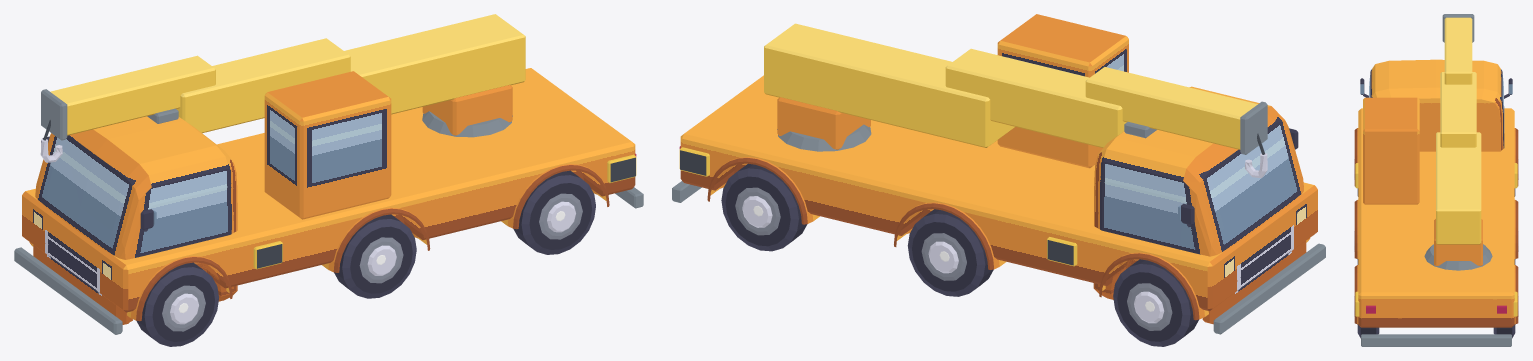
3 views of the same model, side by side, from view 1: azimuth 30°, elevation 25°; view 2: azimuth 150°, elevation 25°; view 3: azimuth 270°, elevation 25° (orthographic). The views are drawn at different scales.
Visible parts, largest first — view 1: Body_static, Wheel_ML_tire_hub, Wheel_RL_tire_hub, Wheel_FL_tire_hub; view 2: Body_static, Wheel_RR_tire_hub, Wheel_MR_tire_hub, Wheel_FR_tire_hub; view 3: Body_static, Wheel_RL_tire_hub, Wheel_RR_tire_hub.
Part boxes in pixels (left/top/right/bottom): Body_static: left=14, top=14, right=643, bottom=334; Wheel_ML_tire_hub: left=334, top=214, right=416, bottom=298; Wheel_RL_tire_hub: left=513, top=170, right=595, bottom=254; Wheel_FL_tire_hub: left=136, top=262, right=218, bottom=346; Body_static: left=672, top=14, right=1325, bottom=334; Wheel_RR_tire_hub: left=721, top=163, right=807, bottom=251; Wheel_MR_tire_hub: left=907, top=209, right=993, bottom=296; Wheel_FR_tire_hub: left=1113, top=259, right=1198, bottom=346; Body_static: left=1354, top=14, right=1518, bottom=346; Wheel_RL_tire_hub: left=1354, top=296, right=1379, bottom=338; Wheel_RR_tire_hub: left=1493, top=296, right=1518, bottom=338.
Bounding box in the file's own units: 128 × 49.22 × 45.46.
Materials: 1 (1 with a texture image).
